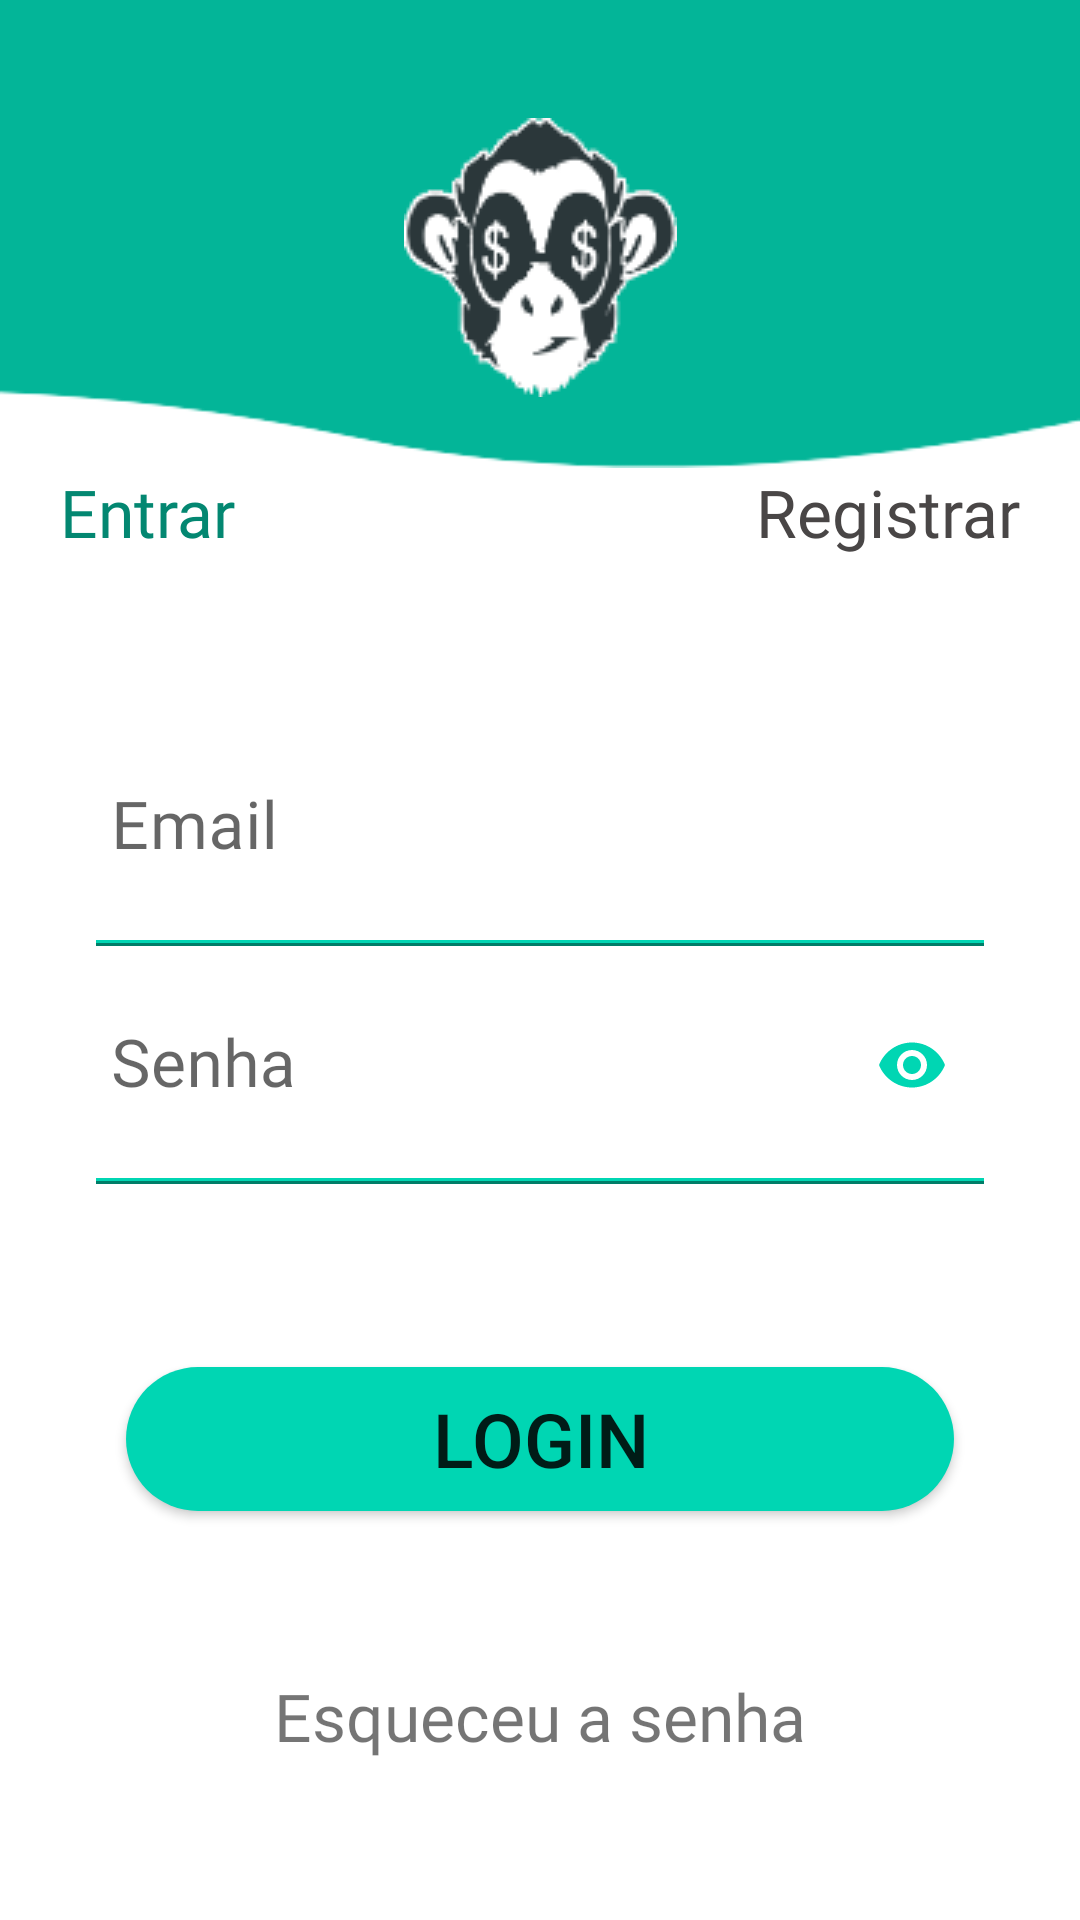

Icon bounding boxes for this 1080px×1920px phone screenshot, format box=[x1, y1, x2, y2]:
monkey: box=[404, 118, 677, 397]
